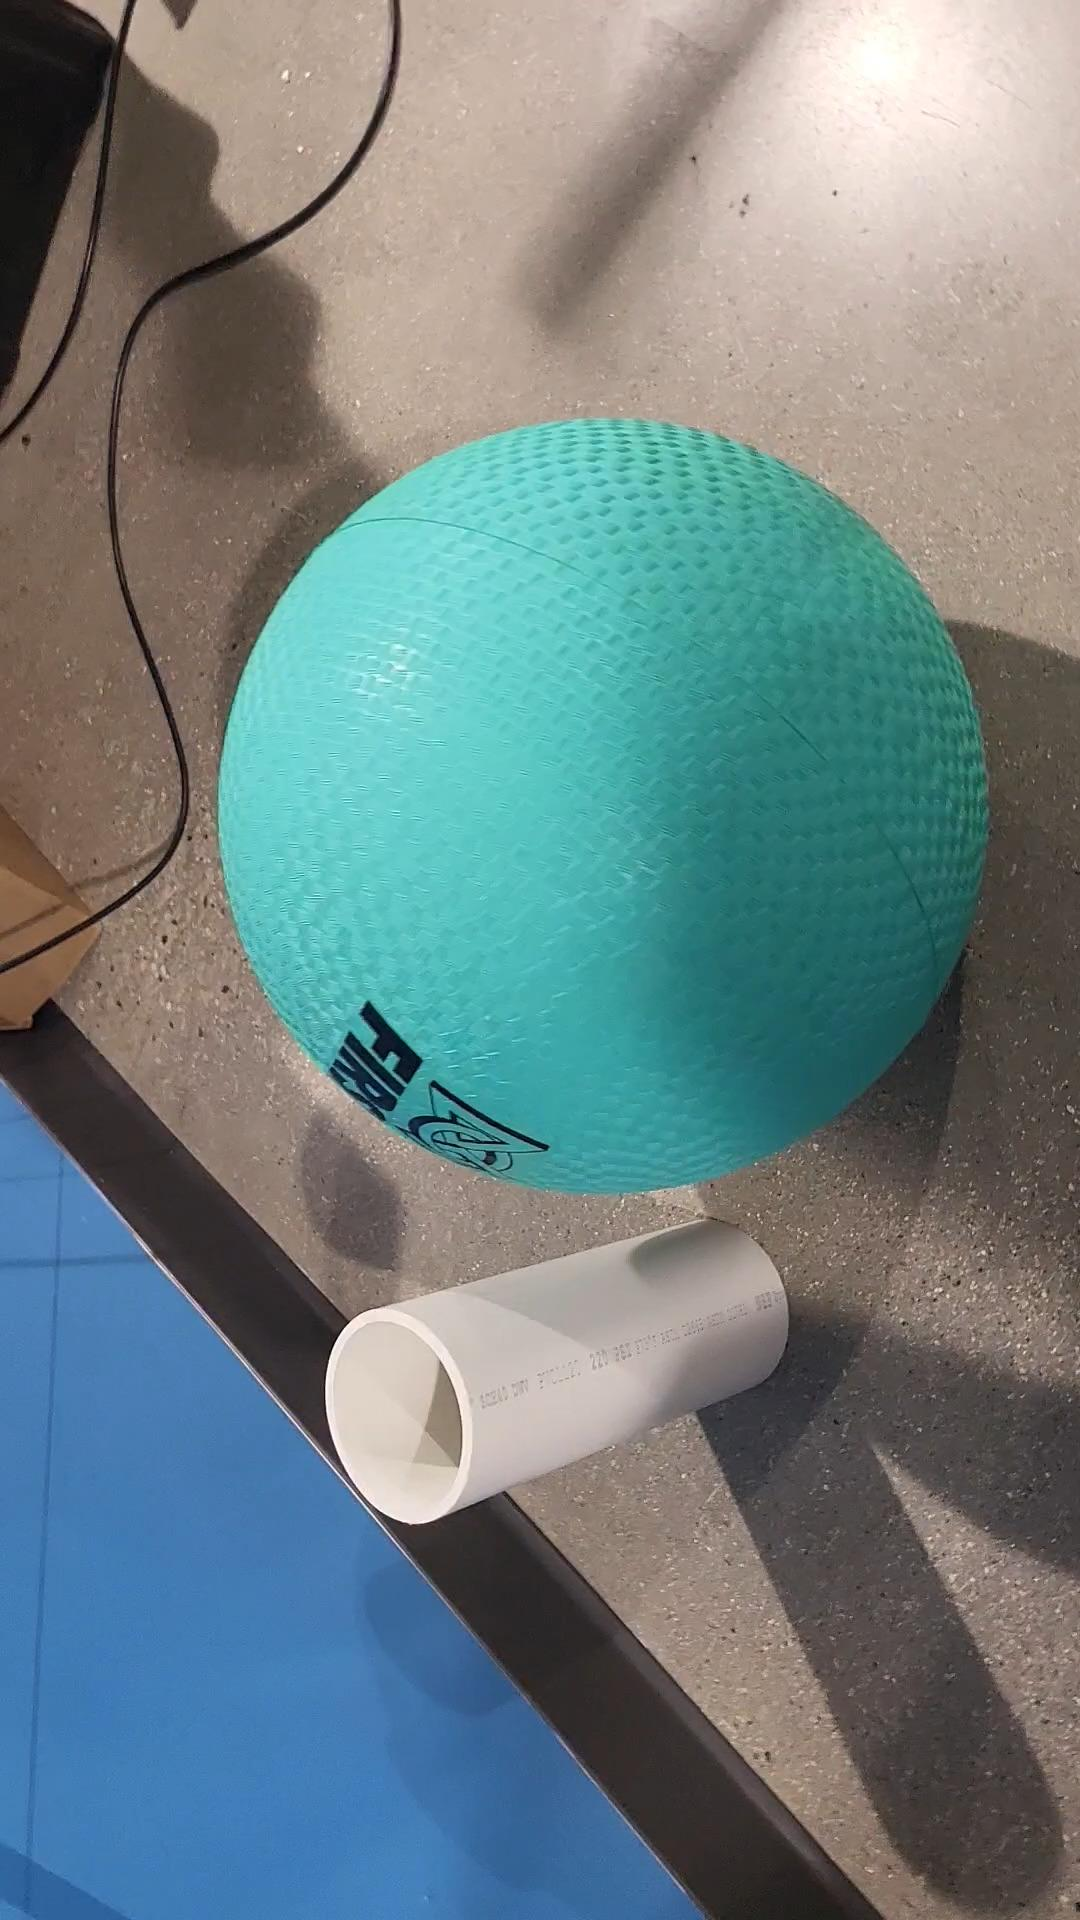algae: (210, 410, 980, 1196)
coral: (316, 1208, 814, 1523)
